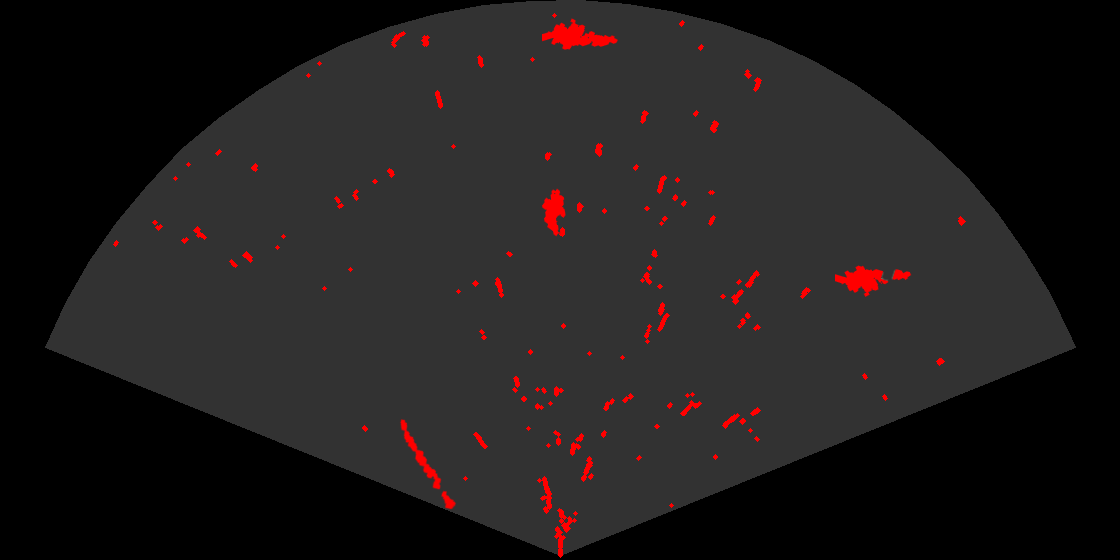AUV: (540, 187, 567, 238)
chain: (398, 418, 458, 511)
frogman: (542, 17, 620, 51), (835, 264, 913, 298)
